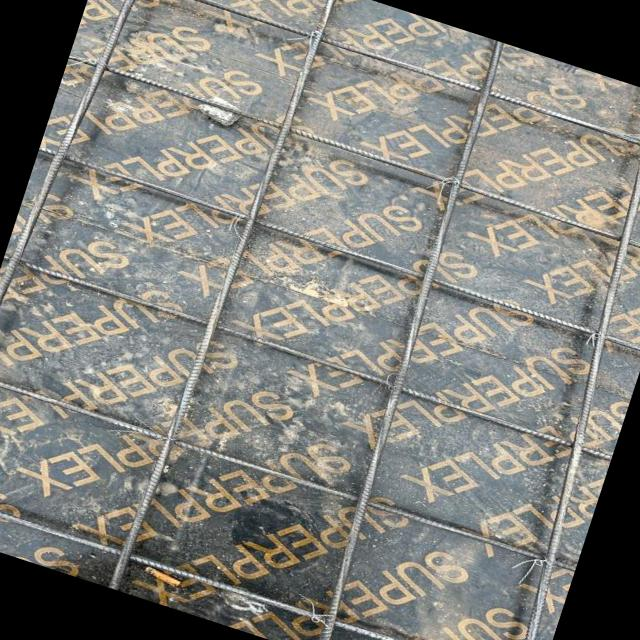ribbed bar: (108, 0, 340, 598), (296, 40, 523, 640), (1, 255, 612, 462), (37, 145, 640, 353), (67, 52, 640, 261), (0, 367, 576, 573), (452, 90, 640, 640), (97, 0, 640, 168), (0, 484, 537, 640), (0, 0, 166, 389)
